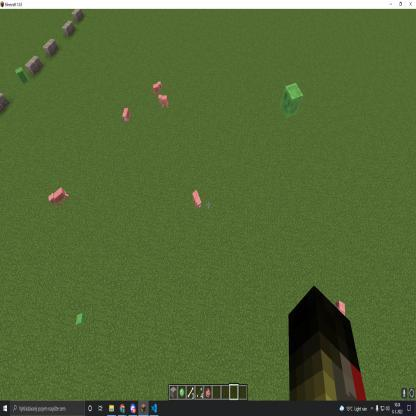pig: (48, 184, 70, 213), (336, 293, 351, 318), (190, 187, 202, 212), (120, 104, 132, 125), (158, 94, 172, 110), (150, 80, 163, 94)
